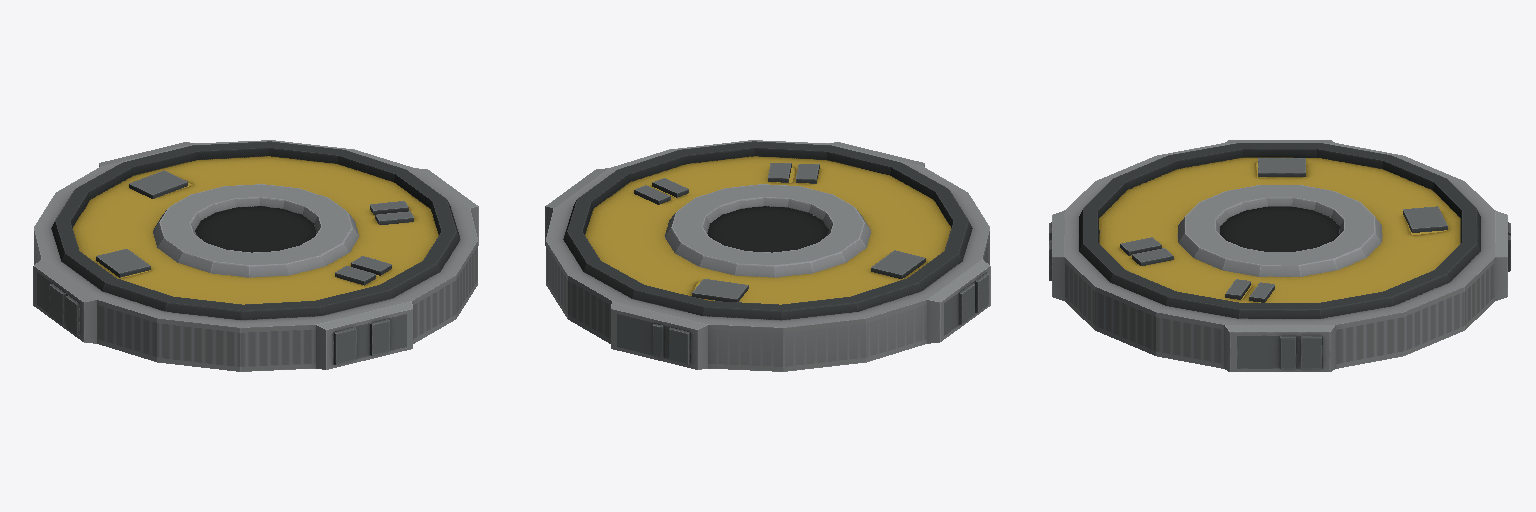
The picture shows the model from 3 angles: view 1: azimuth 30°, elevation 25°; view 2: azimuth 150°, elevation 25°; view 3: azimuth 270°, elevation 25°; orthographic projection.
Parts seen in each view (by area): view 1: RCL01RemoteGuidanceUnit_mesh; view 2: RCL01RemoteGuidanceUnit_mesh; view 3: RCL01RemoteGuidanceUnit_mesh.
Boxes of the visible parts, <box> form: RCL01RemoteGuidanceUnit_mesh: <box>33,140,478,371</box>; RCL01RemoteGuidanceUnit_mesh: <box>545,140,990,371</box>; RCL01RemoteGuidanceUnit_mesh: <box>1049,140,1510,371</box>.
Bounding box in the file's own units: 5.37 × 0.7964 × 5.37.
1 materials, 1 textured.